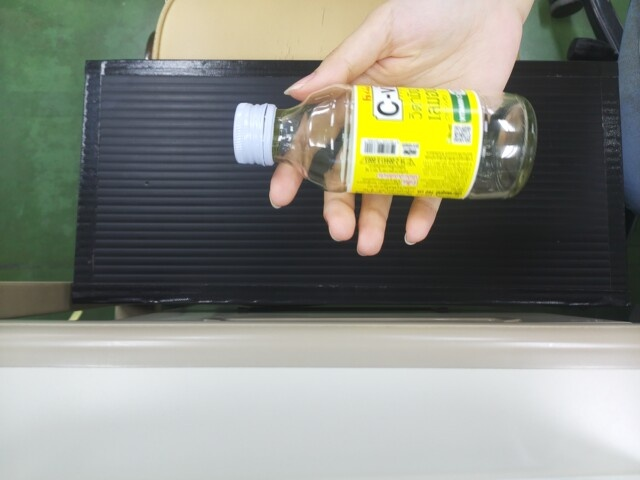glass_bottle: (230, 84, 535, 197)
